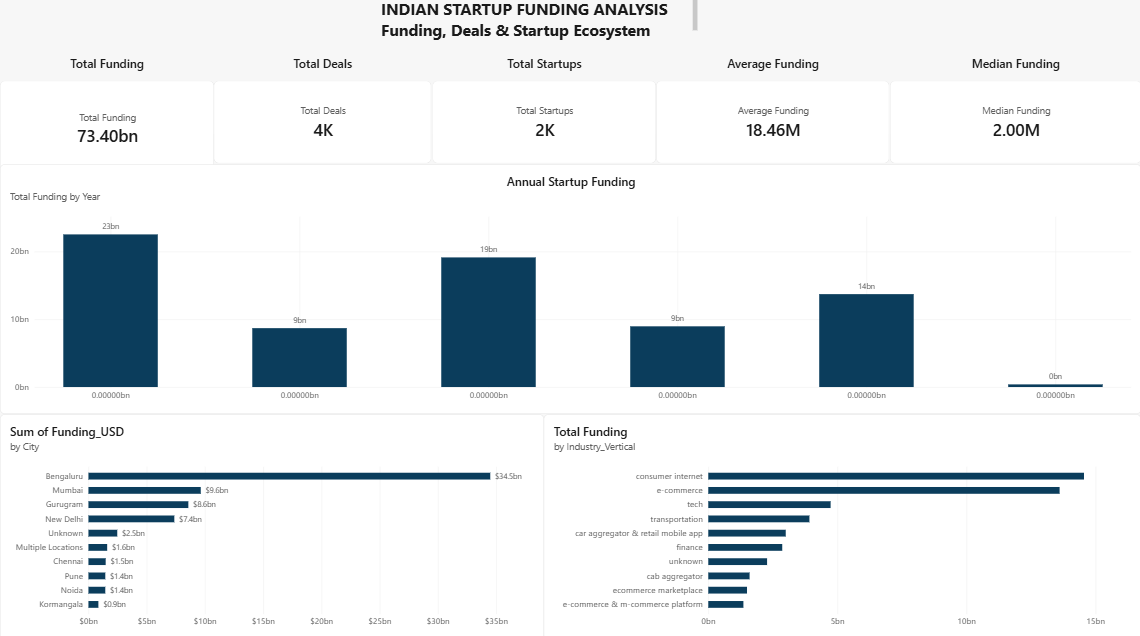

This screenshot's page, from the dashboard's own definition file:
{"tool":"powerbi","page":{"name":"Executive Overview","canvas":[1920,1080],"ordinal":0},"visuals":[{"type":"cardVisual","title":"Total Funding","fields":{"Data":["Indian_Startup_Funding_Cleaned (1).Total Funding"]},"box":[0,97.2,360.6,202.6],"z":0},{"type":"cardVisual","title":"Total Deals","fields":{"Data":["Indian_Startup_Funding_Cleaned (1).Total Deals"]},"box":[360.6,97.2,366.7,182.3],"z":1},{"type":"cardVisual","title":"Total Startups","fields":{"Data":["Indian_Startup_Funding_Cleaned (1).Total Startups"]},"box":[727.2,97.2,376.8,182.3],"z":2},{"type":"cardVisual","title":"Average Funding","fields":{"Data":["Indian_Startup_Funding_Cleaned (1).Average Funding"]},"box":[1104,97.2,393,182.3],"z":3},{"type":"cardVisual","title":"Median Funding","fields":{"Data":["Indian_Startup_Funding_Cleaned (1).Median Funding"]},"box":[1497,97.2,423.4,182.3],"z":4},{"type":"clusteredColumnChart","title":"Annual Startup Funding","fields":{"Category":["Indian_Startup_Funding_Cleaned (1).Year"],"Y":["Indian_Startup_Funding_Cleaned (1).Total Funding"]},"box":[0,280,1920,420],"z":6},{"type":"clusteredBarChart","fields":{"Category":["Indian_Startup_Funding_Cleaned (1).Industry_Vertical"],"Y":["Indian_Startup_Funding_Cleaned (1).Total Funding"]},"box":[915,700,1005,380],"z":10},{"type":"clusteredBarChart","fields":{"Category":["Indian_Startup_Funding_Cleaned (1).City"],"Y":["Sum(Indian_Startup_Funding_Cleaned (1).Funding_USD)"]},"box":[0,700,915,380],"z":11},{"type":"textbox","box":[641.4,0,532,75.7],"z":14}]}

Visuals, with their boxes in screenshot pixels (x1, y1, x2, y2), scaled from the page's 1920x1080 canvas onto the 1140x636 screenshot:
"Total Funding" cardVisual: x1=0 y1=57 x2=214 y2=177
"Total Deals" cardVisual: x1=214 y1=57 x2=432 y2=165
"Total Startups" cardVisual: x1=432 y1=57 x2=656 y2=165
"Average Funding" cardVisual: x1=656 y1=57 x2=889 y2=165
"Median Funding" cardVisual: x1=889 y1=57 x2=1139 y2=165
"Annual Startup Funding" clusteredColumnChart: x1=0 y1=165 x2=1139 y2=412
clusteredBarChart - Indian_Startup_Funding_Cleaned (1).Industry_Vertical x Indian_Startup_Funding_Cleaned (1).Total Funding: x1=543 y1=412 x2=1139 y2=635
clusteredBarChart - Indian_Startup_Funding_Cleaned (1).City x Sum(Indian_Startup_Funding_Cleaned (1).Funding_USD): x1=0 y1=412 x2=543 y2=635
textbox: x1=381 y1=0 x2=697 y2=45
